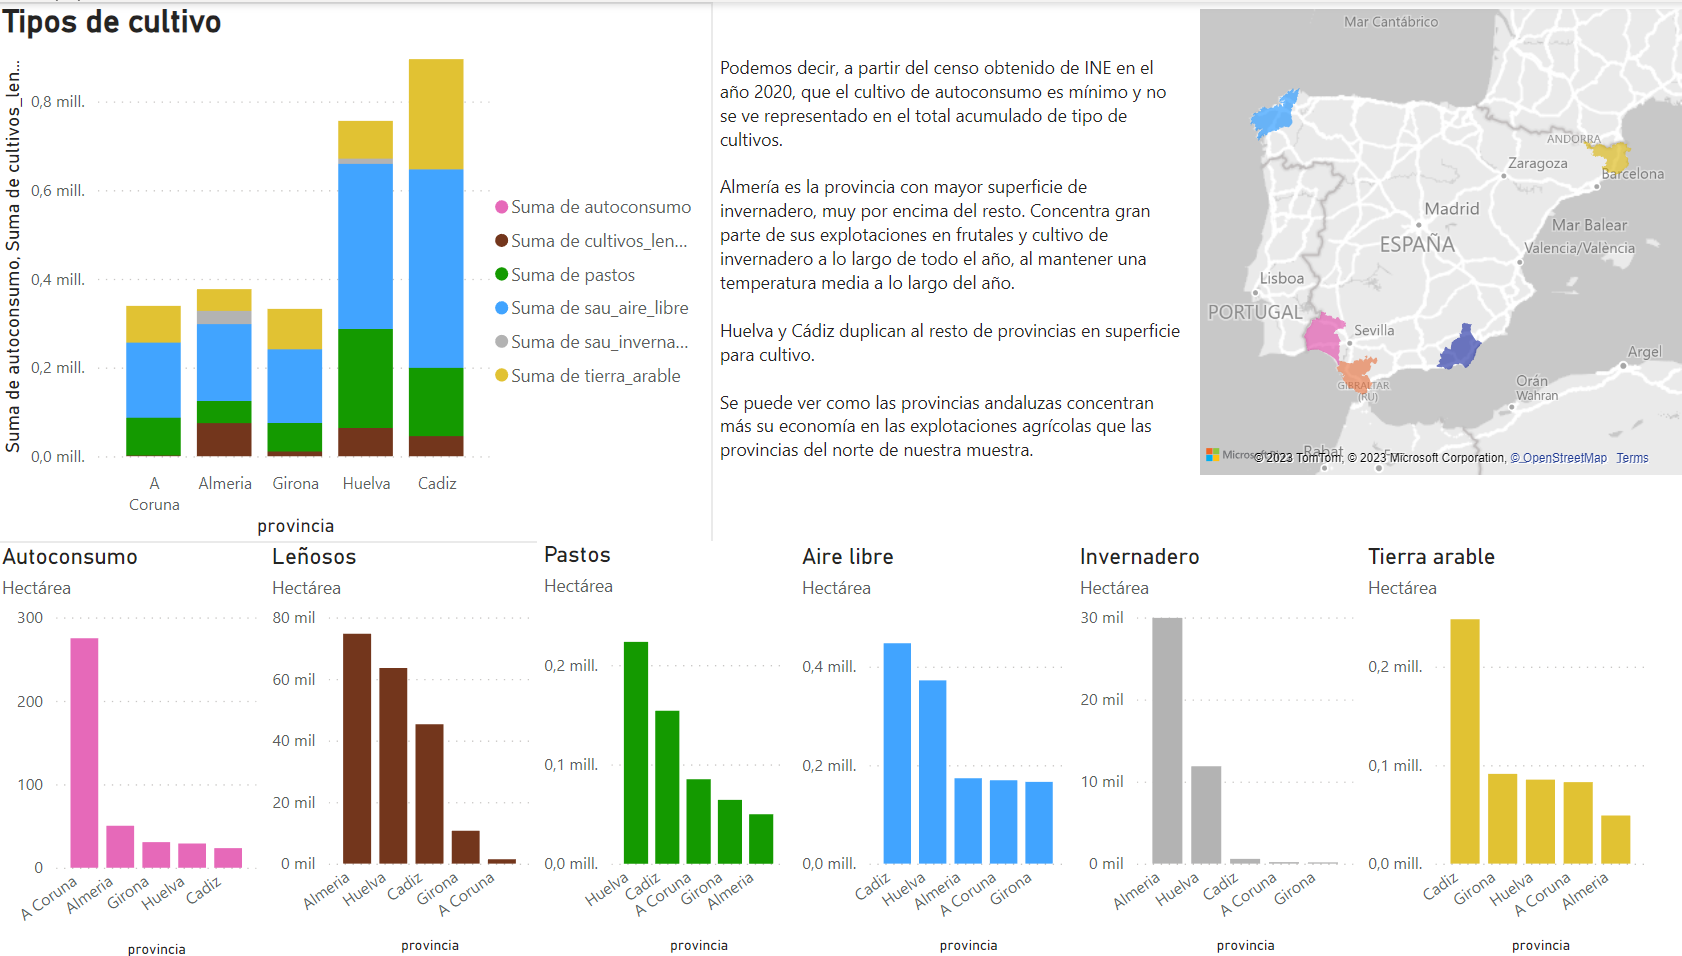

What the dashboard file says about the page in this screenshot:
{"tool":"powerbi","page":{"name":"Página 4","canvas":[1280,720],"ordinal":3},"visuals":[{"type":"columnChart","title":"Tipos de cultivo","fields":{"Y":["Sum(Explotaciones.autoconsumo)","Sum(Explotaciones.cultivos_lenyosos)","Sum(Explotaciones.pastos)","Sum(Explotaciones.sau_aire_libre)","Sum(Explotaciones.sau_invernadero)","Sum(Explotaciones.tierra_arable)"],"Category":["Provincias.provincia"]},"box":[9.5,0,539.5,406.6],"z":0},{"type":"filledMap","fields":{"Category":["Provincias.provincia"]},"box":[911.3,0,373.4,360.7],"z":1},{"type":"clusteredColumnChart","title":"Autoconsumo","fields":{"Y":["Sum(Explotaciones.autoconsumo)"],"Category":["Provincias.provincia"]},"box":[9.5,406.6,202.5,316.4],"z":2},{"type":"clusteredColumnChart","title":"Leñosos","fields":{"Y":["Sum(Explotaciones.cultivos_lenyosos)"],"Category":["Provincias.provincia"]},"box":[212,406.6,205.7,313.3],"z":3},{"type":"clusteredColumnChart","title":"Pastos","fields":{"Y":["Sum(Explotaciones.pastos)"],"Category":["Provincias.provincia"]},"box":[417.7,405,193,314.9],"z":4},{"type":"clusteredColumnChart","title":"Aire libre","fields":{"Y":["Sum(Explotaciones.sau_aire_libre)"],"Category":["Provincias.provincia"]},"box":[610.7,406.6,210.4,313.3],"z":5},{"type":"clusteredColumnChart","title":"Invernadero","fields":{"Y":["Sum(Explotaciones.sau_invernadero)"],"Category":["Provincias.provincia"]},"box":[821.2,406.6,216.8,313.3],"z":6},{"type":"clusteredColumnChart","title":"Tierra arable","fields":{"Y":["Sum(Explotaciones.tierra_arable)"],"Category":["Provincias.provincia"]},"box":[1037.9,406.6,219.9,313.3],"z":7},{"type":"textbox","box":[549,34.8,362.3,373.4],"z":8}]}

Visuals, with their boxes in screenshot pixels (x1, y1, x2, y2), scaled from the page's 1280x720 canvas onto the 1682x956 screenshot:
"Tipos de cultivo" columnChart: {"left": 12, "top": 0, "right": 721, "bottom": 540}
filledMap - Provincias.provincia: {"left": 1198, "top": 0, "right": 1681, "bottom": 479}
"Autoconsumo" clusteredColumnChart: {"left": 12, "top": 540, "right": 279, "bottom": 955}
"Leñosos" clusteredColumnChart: {"left": 279, "top": 540, "right": 549, "bottom": 955}
"Pastos" clusteredColumnChart: {"left": 549, "top": 538, "right": 802, "bottom": 955}
"Aire libre" clusteredColumnChart: {"left": 802, "top": 540, "right": 1079, "bottom": 955}
"Invernadero" clusteredColumnChart: {"left": 1079, "top": 540, "right": 1364, "bottom": 955}
"Tierra arable" clusteredColumnChart: {"left": 1364, "top": 540, "right": 1653, "bottom": 955}
textbox: {"left": 721, "top": 46, "right": 1198, "bottom": 542}
